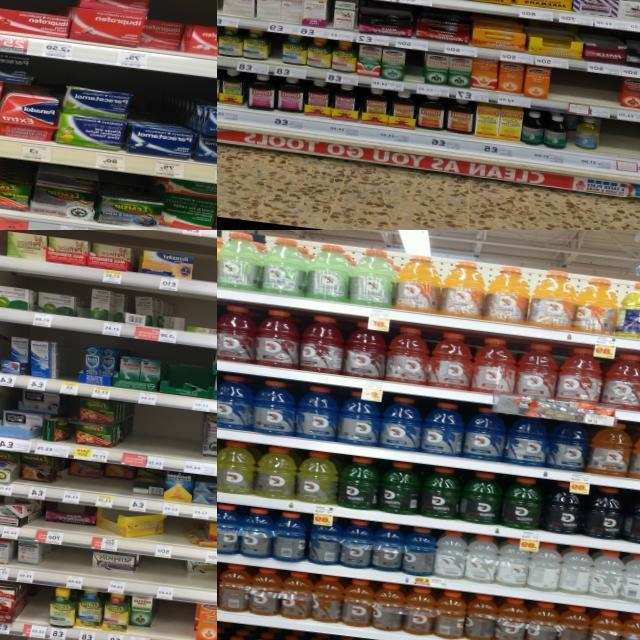Imprecise: (32, 159, 96, 222), (4, 393, 66, 446), (41, 503, 96, 533), (142, 20, 188, 55), (176, 557, 217, 590), (90, 552, 138, 580), (18, 452, 54, 488), (65, 460, 103, 492), (162, 313, 216, 334), (125, 292, 156, 328), (129, 594, 151, 640), (105, 464, 134, 496)
